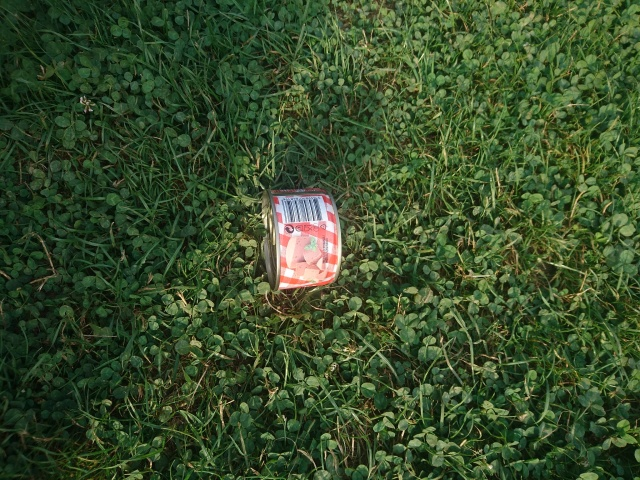Podravka Luncheon Meat 150g: (259, 186, 344, 295)
